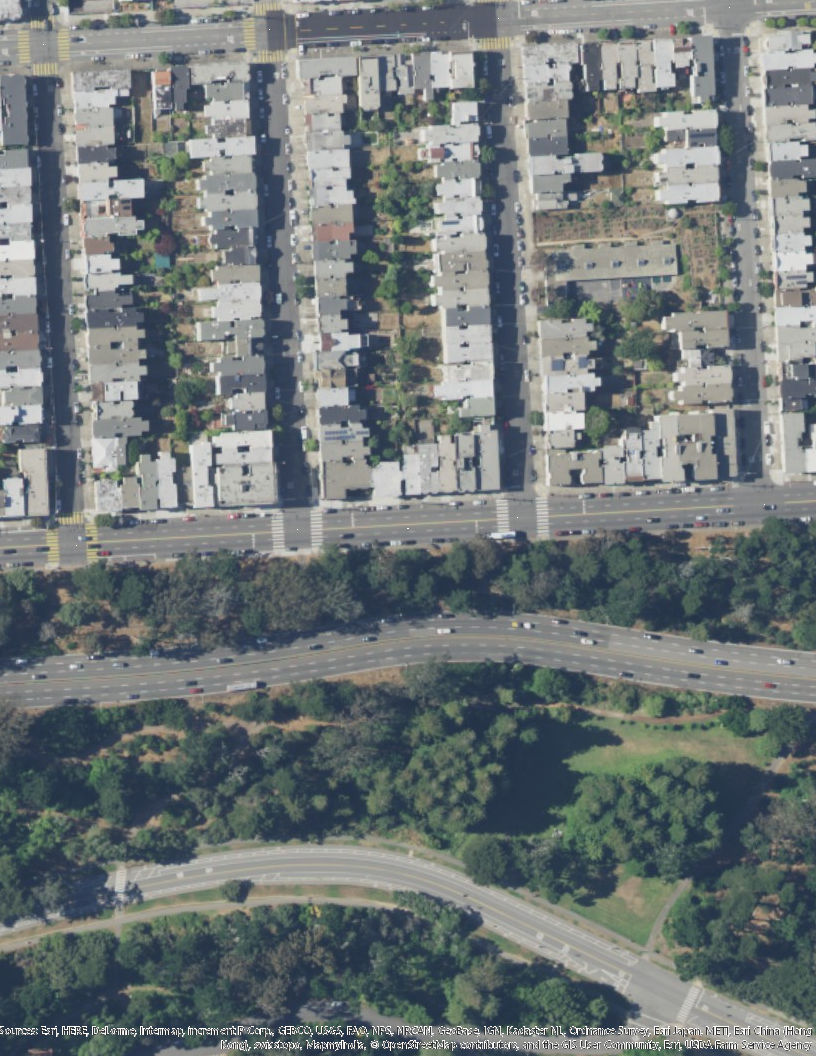zebracross: (270, 513, 287, 552), (534, 497, 549, 539), (242, 17, 259, 52), (495, 498, 511, 535), (310, 510, 324, 550), (85, 523, 98, 562), (476, 37, 514, 50), (17, 29, 30, 66), (46, 532, 61, 564), (55, 29, 70, 61), (31, 61, 57, 78), (58, 511, 87, 524), (256, 3, 282, 16), (260, 51, 287, 63), (30, 14, 49, 28)
